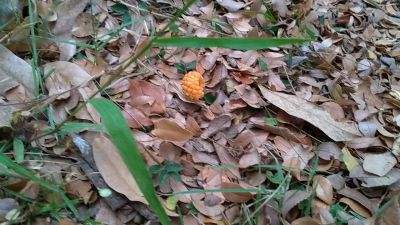eggs: (181, 68, 205, 101)
